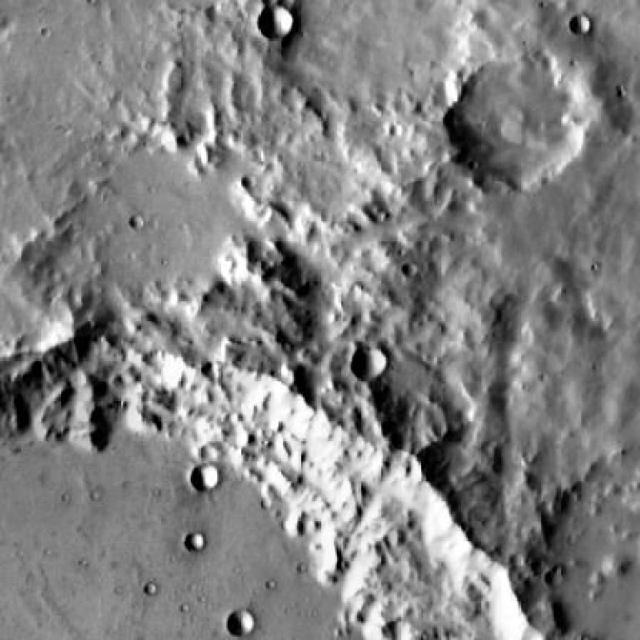crater: (1, 354, 552, 640), (296, 0, 493, 134), (461, 59, 604, 198), (263, 5, 300, 41), (349, 347, 386, 382), (227, 611, 255, 638), (191, 467, 217, 493), (571, 15, 591, 36), (184, 535, 202, 553)
